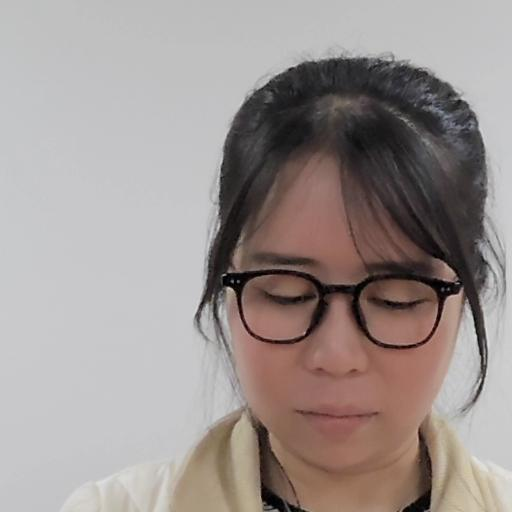no_glasses: (200, 57, 489, 454)
